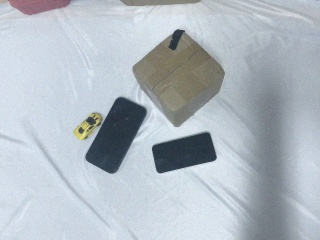box: (132, 29, 225, 128)
phone: (83, 96, 148, 175), (152, 132, 217, 174)
toy_car: (73, 112, 103, 140)
